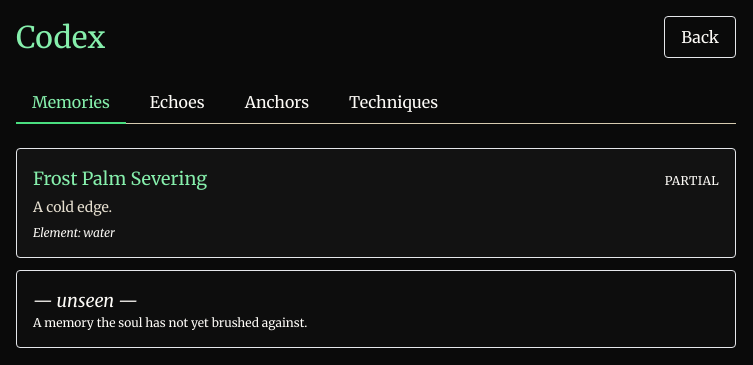
Test: CodexScreen › renders anchors tab with unlock hint for locked anchors
Click the tab "anchors": click(277, 103) [229,82,325,124]
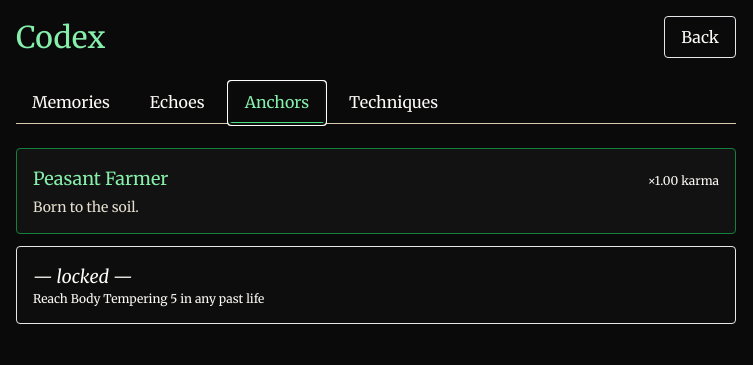
Check: the text "Peasant Farmer" is shown, box [33,165,168,193]
Check: the text "Reach Body Tempering 5 in any past life" is shown, box [33,291,264,306]
